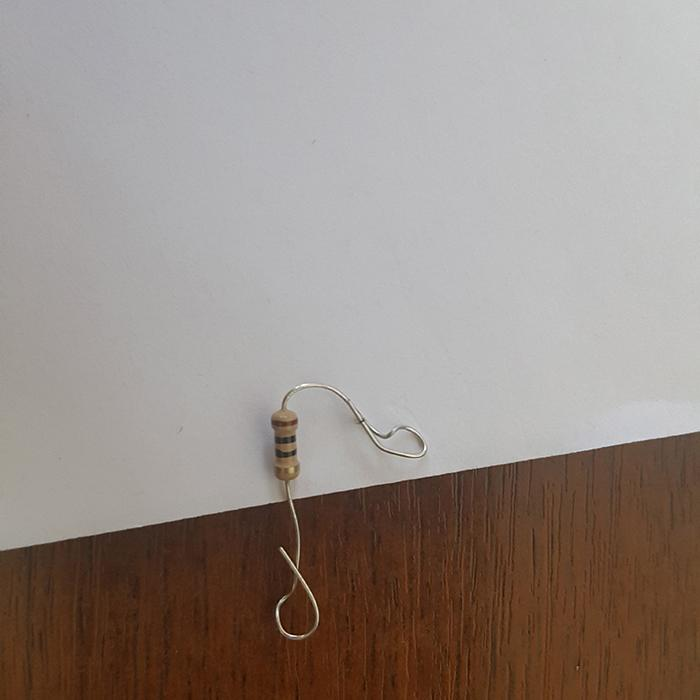resistor: (270, 407, 300, 481)
